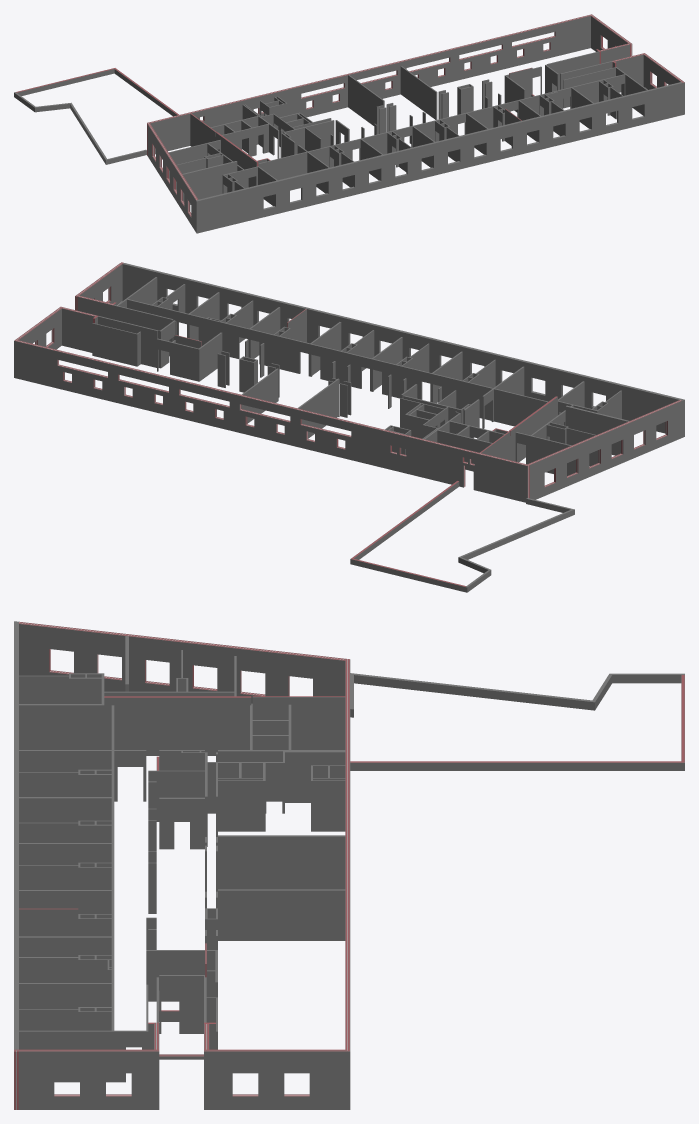
The model's file is Building Model - Excavation and Trench - updated_1kn71nZ$z5OvtVVlfMoO_M-Piso 1_IfcWallStandardCase.dae.
3 renders of one model, top to bottom at view 1: azimuth 30°, elevation 25°; view 2: azimuth 150°, elevation 25°; view 3: azimuth 270°, elevation 25°, orthographic. The views are drawn at different scales.
Parts seen in each view (by area): view 1: 0jFAAIDIf1MvwbwQYdFy9G, 0jFAAIDIf1MvwbwQYdFy9M, 08Enbf8kXAKRZlJEf_0Dzf, 0jFAAIDIf1MvwbwQYdFy9H, 08Enbf8kXAKRZlJEf_0Dys, 08Enbf8kXAKRZlJEf_0E3P, 08Enbf8kXAKRZlJEf_0E3W, 0jFAAIDIf1MvwbwQYdFy9C, 0jFAAIDIf1MvwbwQYdFy9I, 08Enbf8kXAKRZlJEf_0Dyu, 08Enbf8kXAKRZlJEf_0Dyj, 08Enbf8kXAKRZlJEf_0DzP (+21 smaller); view 2: 0jFAAIDIf1MvwbwQYdFy9M, 0jFAAIDIf1MvwbwQYdFy9G, 08Enbf8kXAKRZlJEf_0Dzf, 0jFAAIDIf1MvwbwQYdFy9H, 08Enbf8kXAKRZlJEf_0E3$, 08Enbf8kXAKRZlJEf_0Dys, 0jFAAIDIf1MvwbwQYdFy9J, 08Enbf8kXAKRZlJEf_0D_B, 0jFAAIDIf1MvwbwQYdFy9I, 08Enbf8kXAKRZlJEf_0DzP, 08Enbf8kXAKRZlJEf_0Dy_, 08Enbf8kXAKRZlJEf_0D_A (+19 smaller); view 3: 0jFAAIDIf1MvwbwQYdFy9H, 0jFAAIDIf1MvwbwQYdFy9I, 08Enbf8kXAKRZlJEf_0DzP, 0jFAAIDIf1MvwbwQYdFy9C, 08Enbf8kXAKRZlJEf_0E3W, 08Enbf8kXAKRZlJEf_0E3P, 08Enbf8kXAKRZlJEf_0Dze, 08Enbf8kXAKRZlJEf_0Dyy, 2vxSukt3L10Ovc8Q_DnoHP, 08Enbf8kXAKRZlJEf_0D_F, 08Enbf8kXAKRZlJEf_0Dzs, 08Enbf8kXAKRZlJEf_0Dz$ (+27 smaller).
Part boxes in pixels (x1=…): 0jFAAIDIf1MvwbwQYdFy9G: x1=196, y1=82, x2=682, y2=233; 0jFAAIDIf1MvwbwQYdFy9M: x1=147, y1=15, x2=590, y2=155; 08Enbf8kXAKRZlJEf_0Dzf: x1=258, y1=74, x2=625, y2=180; 0jFAAIDIf1MvwbwQYdFy9H: x1=147, y1=123, x2=197, y2=231; 08Enbf8kXAKRZlJEf_0Dys: x1=182, y1=161, x2=237, y2=204; 08Enbf8kXAKRZlJEf_0E3P: x1=400, y1=66, x2=437, y2=119; 08Enbf8kXAKRZlJEf_0E3W: x1=348, y1=75, x2=384, y2=125; 0jFAAIDIf1MvwbwQYdFy9C: x1=642, y1=53, x2=684, y2=114; 0jFAAIDIf1MvwbwQYdFy9I: x1=590, y1=14, x2=632, y2=56; 08Enbf8kXAKRZlJEf_0Dyu: x1=215, y1=123, x2=268, y2=156; 08Enbf8kXAKRZlJEf_0Dyj: x1=285, y1=120, x2=334, y2=154; 08Enbf8kXAKRZlJEf_0DzP: x1=216, y1=132, x2=258, y2=187; 0jFAAIDIf1MvwbwQYdFy9M: x1=17, y1=340, x2=529, y2=502; 0jFAAIDIf1MvwbwQYdFy9G: x1=122, y1=263, x2=684, y2=437; 08Enbf8kXAKRZlJEf_0Dzf: x1=127, y1=299, x2=547, y2=426; 0jFAAIDIf1MvwbwQYdFy9H: x1=527, y1=400, x2=682, y2=499; 08Enbf8kXAKRZlJEf_0E3$: x1=92, y1=323, x2=136, y2=366; 08Enbf8kXAKRZlJEf_0Dys: x1=565, y1=405, x2=629, y2=455; 0jFAAIDIf1MvwbwQYdFy9J: x1=62, y1=307, x2=96, y2=352; 08Enbf8kXAKRZlJEf_0D_B: x1=157, y1=338, x2=198, y2=381; 0jFAAIDIf1MvwbwQYdFy9I: x1=14, y1=306, x2=62, y2=378; 08Enbf8kXAKRZlJEf_0DzP: x1=509, y1=396, x2=557, y2=462; 08Enbf8kXAKRZlJEf_0Dy_: x1=515, y1=432, x2=576, y2=475; 08Enbf8kXAKRZlJEf_0D_A: x1=98, y1=316, x2=159, y2=367; 0jFAAIDIf1MvwbwQYdFy9H: x1=19, y1=621, x2=345, y2=703; 0jFAAIDIf1MvwbwQYdFy9I: x1=204, y1=1049, x2=350, y2=1109; 08Enbf8kXAKRZlJEf_0DzP: x1=104, y1=696, x2=251, y2=755; 0jFAAIDIf1MvwbwQYdFy9C: x1=14, y1=1049, x2=159, y2=1109; 08Enbf8kXAKRZlJEf_0E3W: x1=218, y1=835, x2=345, y2=889; 08Enbf8kXAKRZlJEf_0E3P: x1=218, y1=889, x2=345, y2=940; 08Enbf8kXAKRZlJEf_0Dze: x1=19, y1=704, x2=104, y2=749; 08Enbf8kXAKRZlJEf_0Dyy: x1=252, y1=696, x2=345, y2=749; 2vxSukt3L10Ovc8Q_DnoHP: x1=350, y1=761, x2=681, y2=770; 08Enbf8kXAKRZlJEf_0D_F: x1=19, y1=1030, x2=146, y2=1082; 08Enbf8kXAKRZlJEf_0Dzs: x1=19, y1=750, x2=146, y2=801; 08Enbf8kXAKRZlJEf_0Dz$: x1=19, y1=983, x2=111, y2=1030.
Size of the model in its own units: 55.61 by 36.63 by 3.95.
